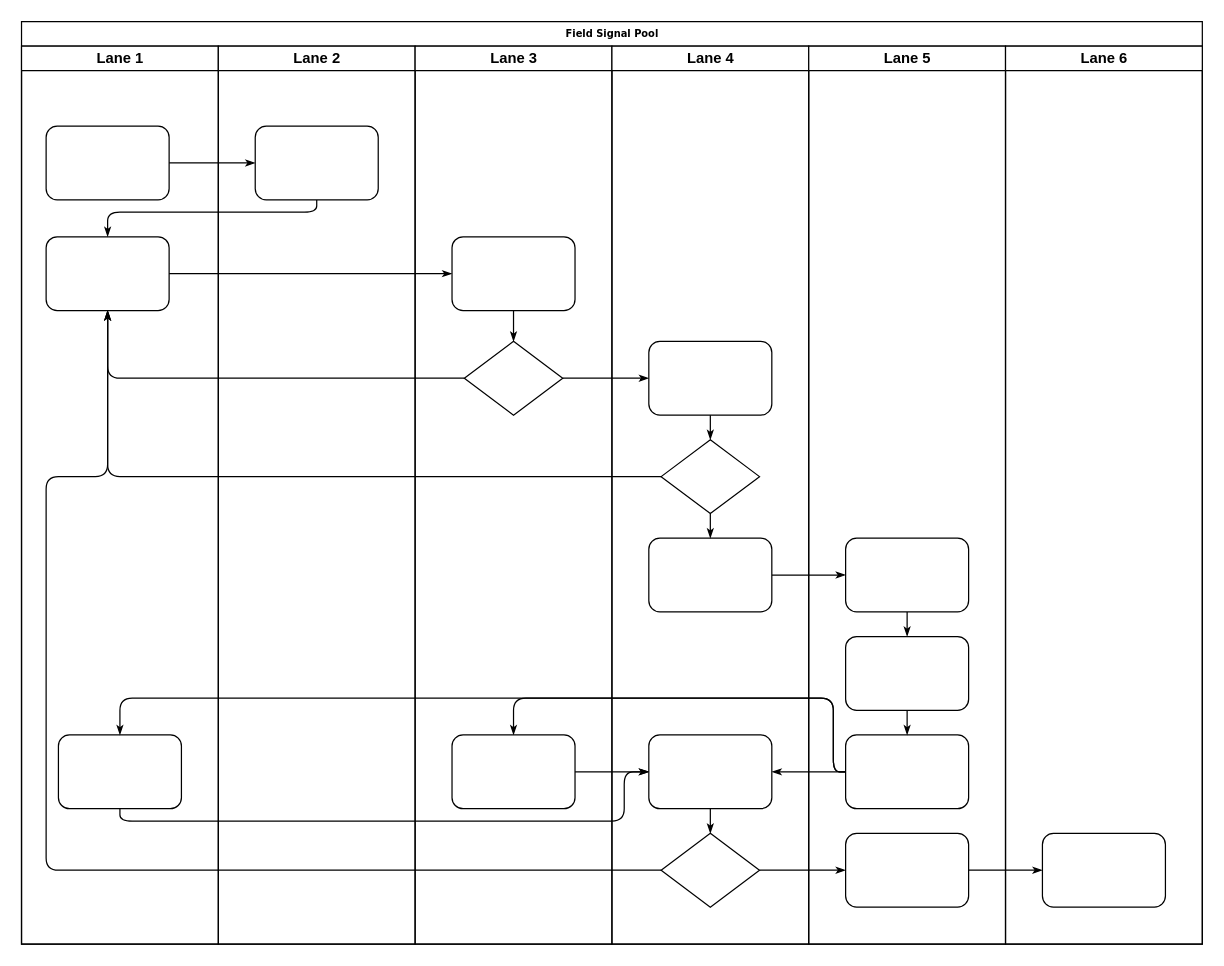
This 1224x966 diagram has some shape labels left out. Here are the shapes that lost their labels. From the top down, the centre of each, then its label:
At (107,162): "Init Signal data".
At (316,162): "Init Queue for Input data".
